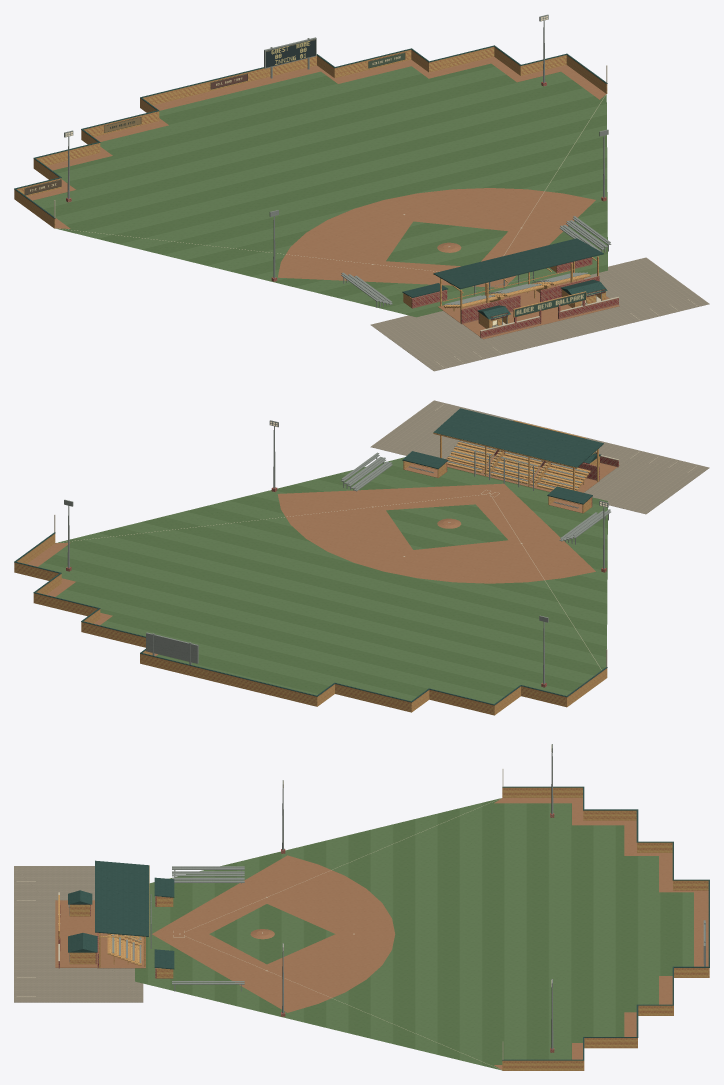
File: alder-bend-2000-far.glb
3 views of the same model, one above another, from view 1: azimuth 30°, elevation 25°; view 2: azimuth 150°, elevation 25°; view 3: azimuth 270°, elevation 25° (orthographic).
Visible parts, largest first — view 1: diamond, lot, outfield_fence, grandstand, park_buildings, line_bleachers, light_towers, sign_scoreboard, sign_name; view 2: diamond, outfield_fence, grandstand, lot, park_buildings, line_bleachers, light_towers; view 3: diamond, lot, outfield_fence, grandstand, park_buildings, line_bleachers, light_towers.
Boxes of the visible parts, x1,y1,x2,y2 form: diamond: (27, 57, 607, 317); lot: (370, 257, 709, 371); outfield_fence: (14, 37, 607, 228); grandstand: (433, 238, 603, 324); park_buildings: (402, 257, 619, 338); line_bleachers: (341, 216, 611, 307); light_towers: (64, 14, 608, 281); sign_scoreboard: (266, 39, 315, 67); sign_name: (514, 292, 585, 316); diamond: (27, 451, 607, 703); outfield_fence: (14, 514, 607, 715); grandstand: (433, 408, 603, 492); lot: (370, 400, 709, 514); park_buildings: (402, 420, 618, 513); line_bleachers: (341, 452, 610, 544); light_towers: (64, 420, 608, 687); diamond: (135, 798, 708, 1070); lot: (14, 866, 143, 1002); outfield_fence: (502, 769, 709, 1070); grandstand: (95, 860, 149, 968); park_buildings: (58, 877, 174, 978); line_bleachers: (172, 866, 244, 991); light_towers: (281, 744, 554, 1052).
Size of what is drawn, in the model's own units: 144 by 17.37 by 155.
Materials: 11 (11 with a texture image).
